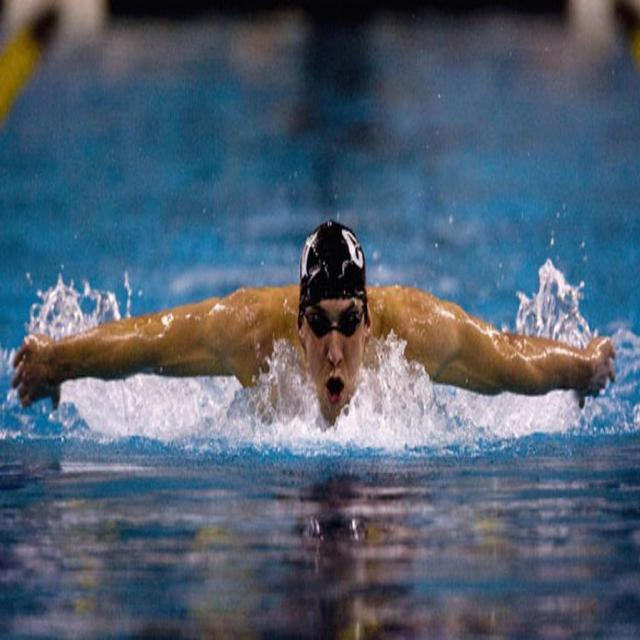nomask: (306, 268, 365, 415)
